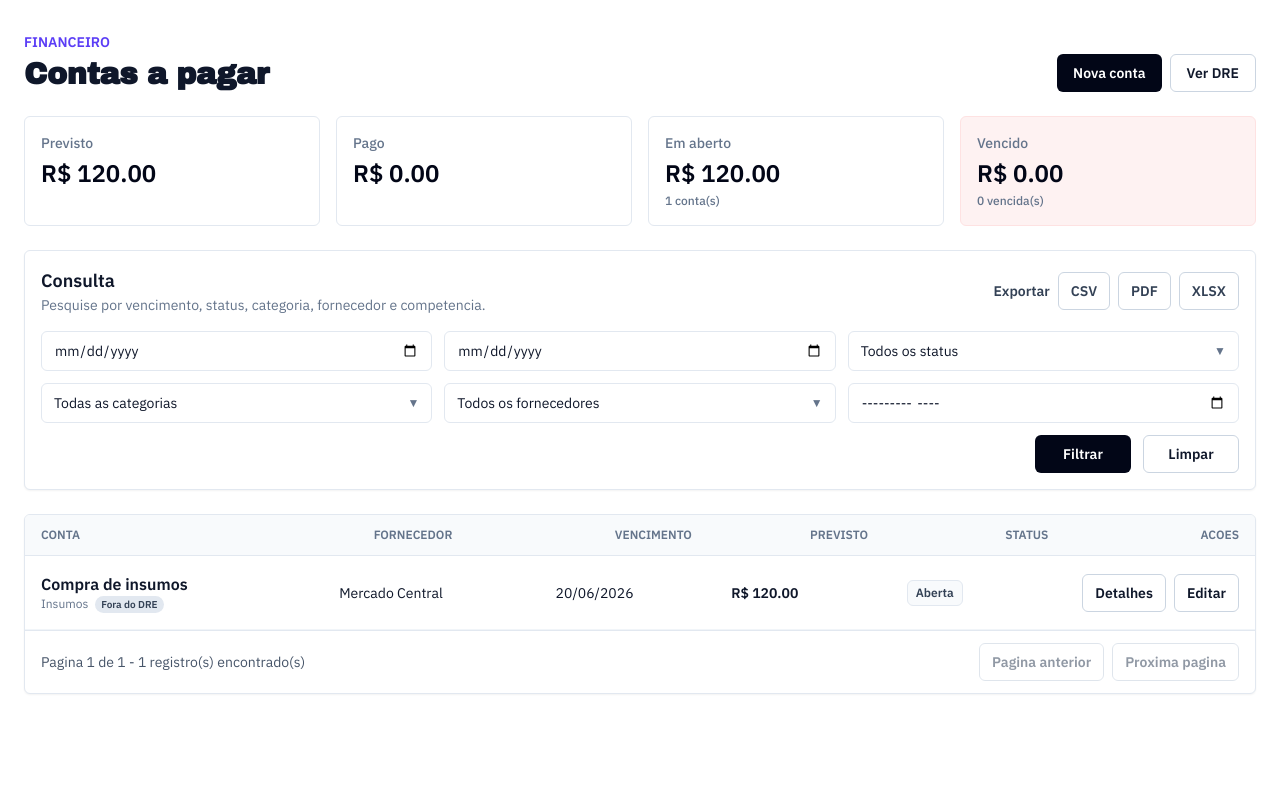
Scenario: PayablesClient filters › submits category filter and preserves the selected value on empty results
This screenshot has width=1280, height=800.
What coordinates should you click on to do the following:
click the button "Todas as categorias ▼"
I would click on:
 (116, 403)
Its box is [41, 383, 432, 423].
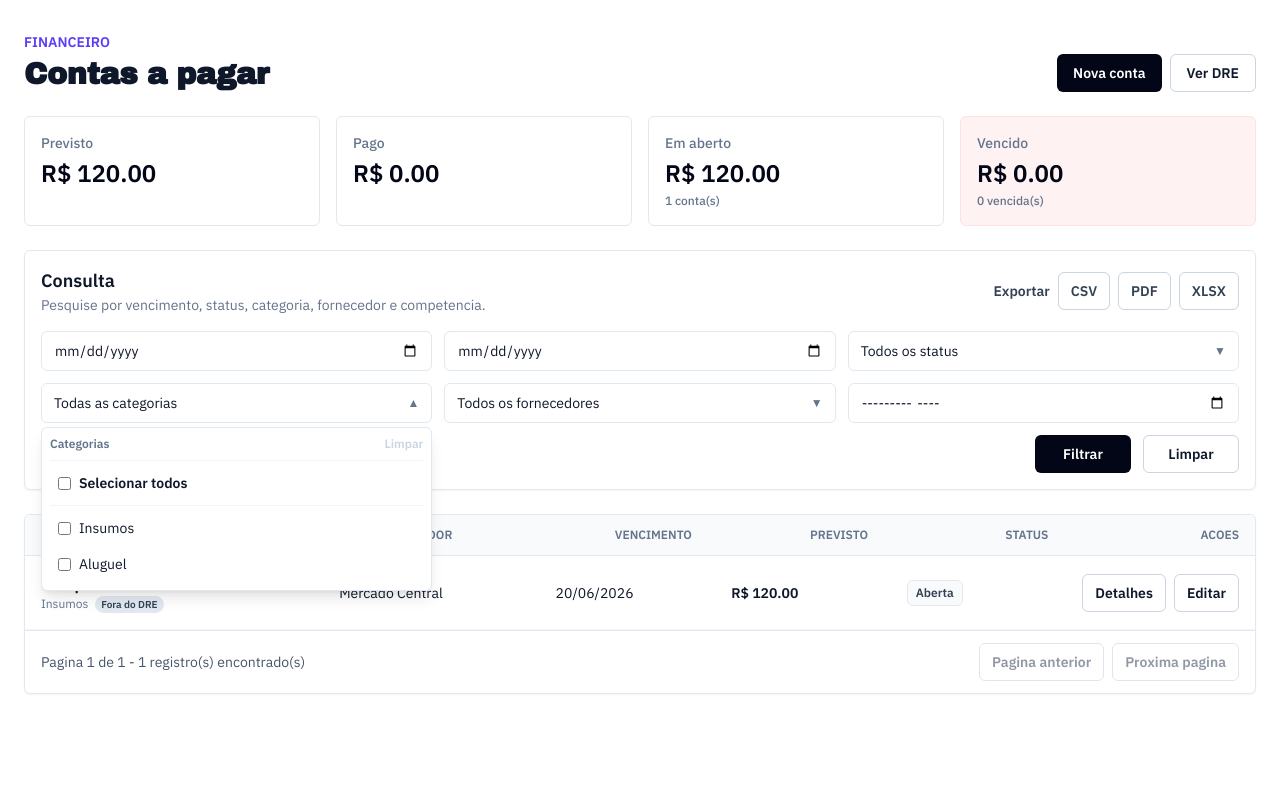
What coordinates should you click on to do the following:
click the checkbox labelled "Insumos"
I would click on:
 (64, 528)
Its box is [58, 522, 71, 534].
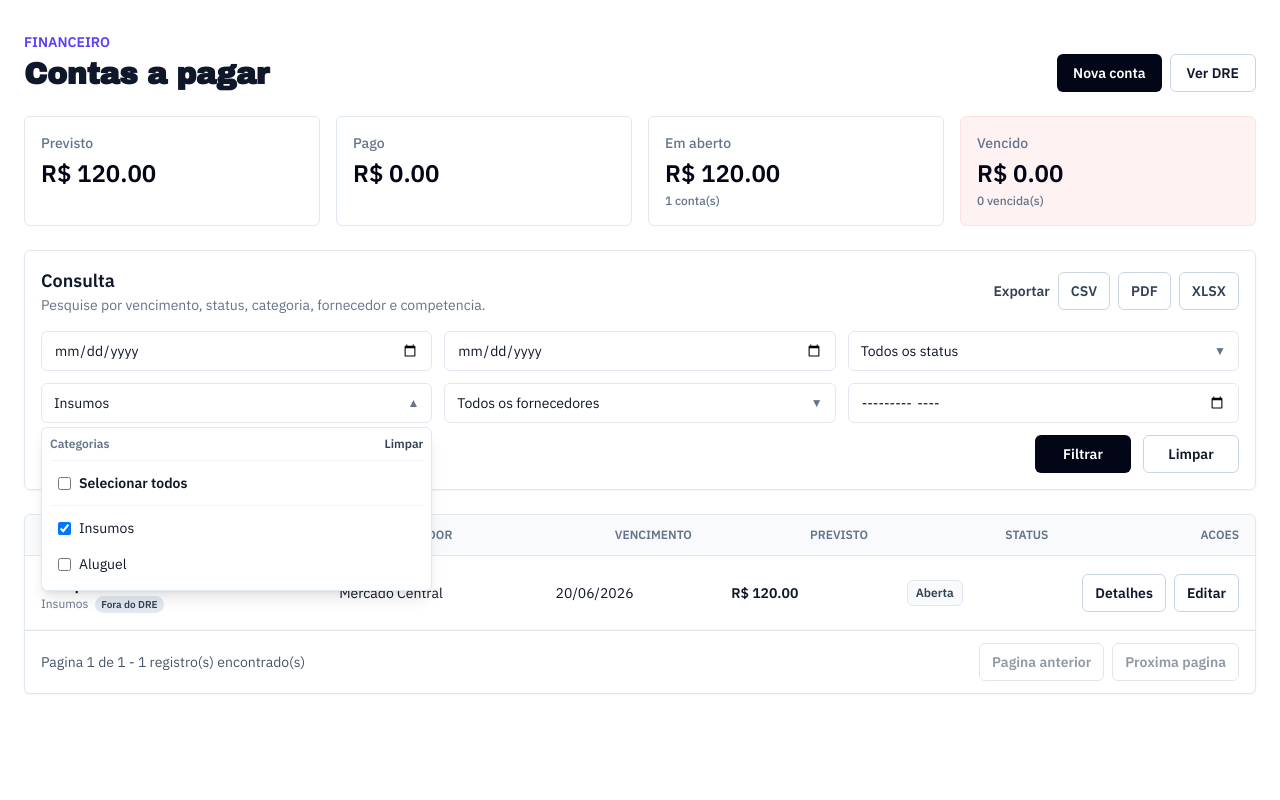
What coordinates should you click on to do the following:
click the button "Filtrar"
I would click on:
 (1083, 454)
Its box is [1035, 435, 1131, 473].
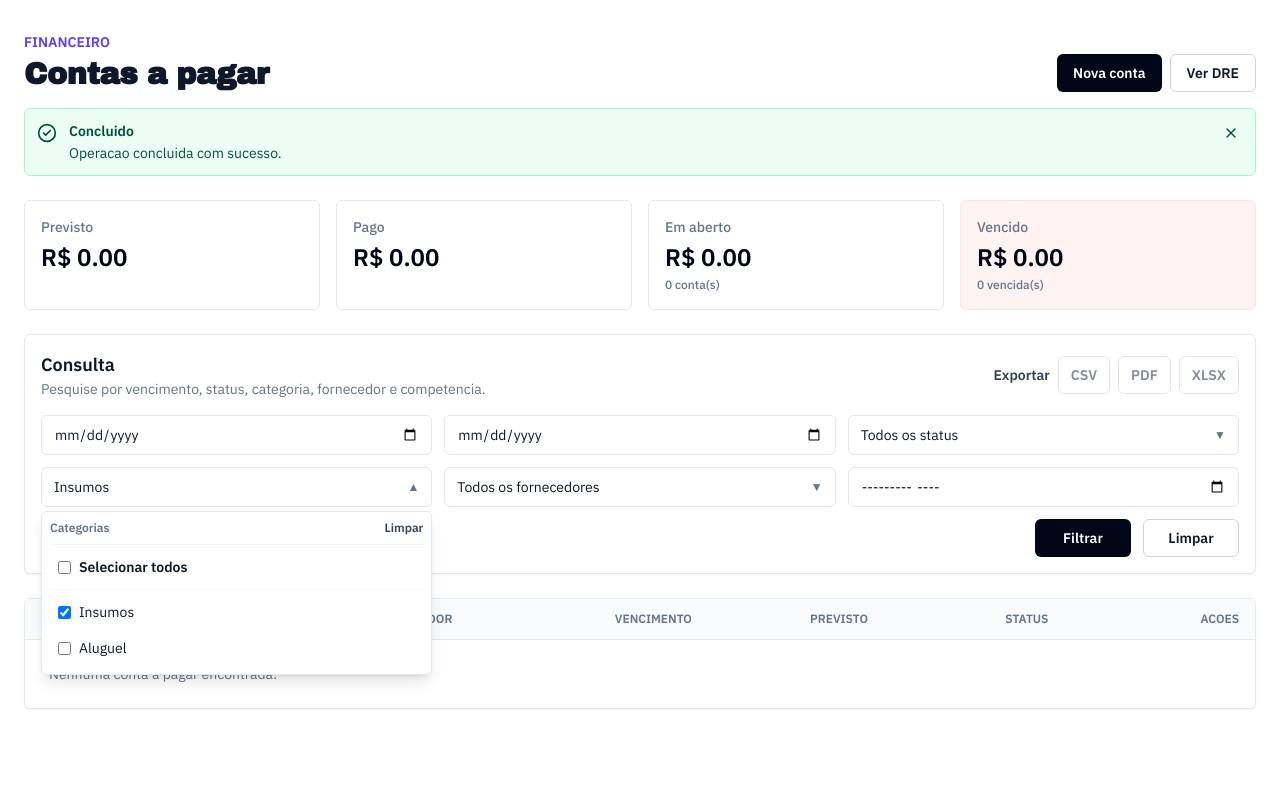
Expected: the text "R$ 0.00" is shown, [41, 241, 127, 273]
Expected: the text "Nenhuma conta a pagar encontrada." is shown, [49, 665, 277, 683]
